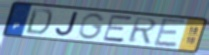D: (23, 7, 54, 36)
E: (152, 17, 187, 49), (102, 14, 134, 44)
G: (77, 12, 107, 41)
J: (54, 11, 80, 38)
R: (127, 16, 159, 45)
